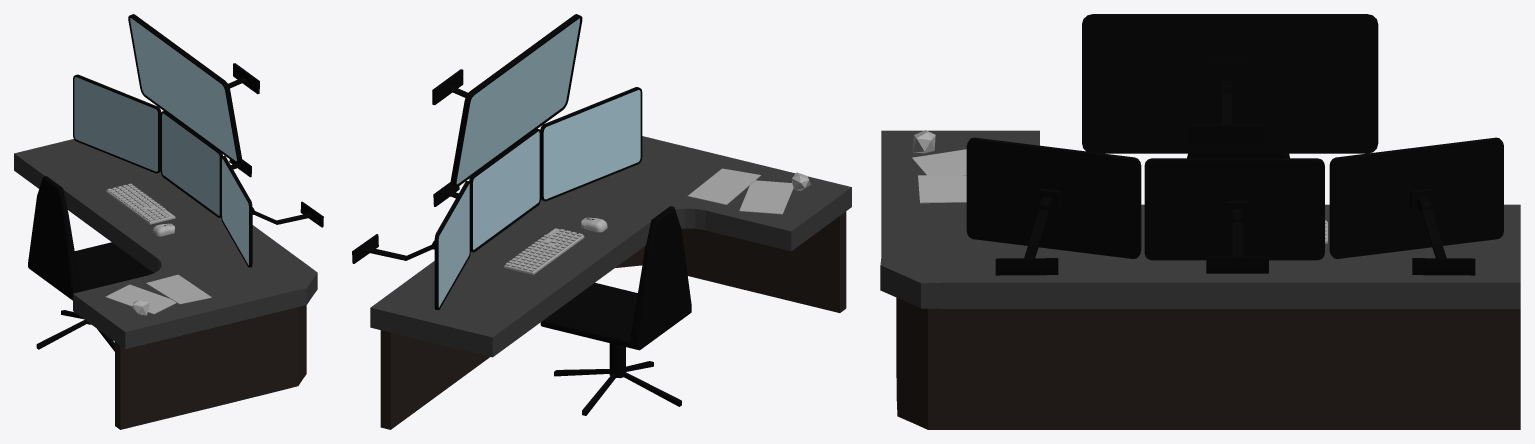
The model's file is setup.fbx.
The picture shows the model from 3 angles, left to right: view 1: azimuth 30°, elevation 25°; view 2: azimuth 150°, elevation 25°; view 3: azimuth 270°, elevation 25°; orthographic projection. The views are drawn at different scales.
Visible parts, largest first — view 1: table, monitor1, chair, monitor2, monitor3, monitor4, paper, keyboard; view 2: table, chair, monitor1, monitor4, monitor3, monitor2, paper, keyboard; view 3: table, monitor1, monitor3, monitor4, monitor2, paper, chair.
Boxes of the visible parts, x1,y1,x2,y2 form: table: (14,139,317,429); monitor1: (128,14,259,163); chair: (28,176,153,351); monitor2: (73,74,161,173); monitor3: (161,111,251,217); monitor4: (221,155,323,267); paper: (105,274,211,315); keyboard: (106,183,175,224); table: (370,136,851,429); chair: (540,206,691,415); monitor1: (432,14,582,187); monitor4: (540,87,642,201); monitor3: (433,129,540,252); monitor2: (352,181,470,310); paper: (687,168,810,214); keyboard: (504,228,584,274); table: (880,130,1520,429); monitor1: (1082,14,1378,153); monitor3: (1144,158,1324,273); monitor4: (966,137,1141,275); monitor2: (1329,137,1503,275); paper: (912,130,966,203); chair: (1187,153,1289,158).
Size of the model in its own units: 4.47 by 6.92 by 4.87.
